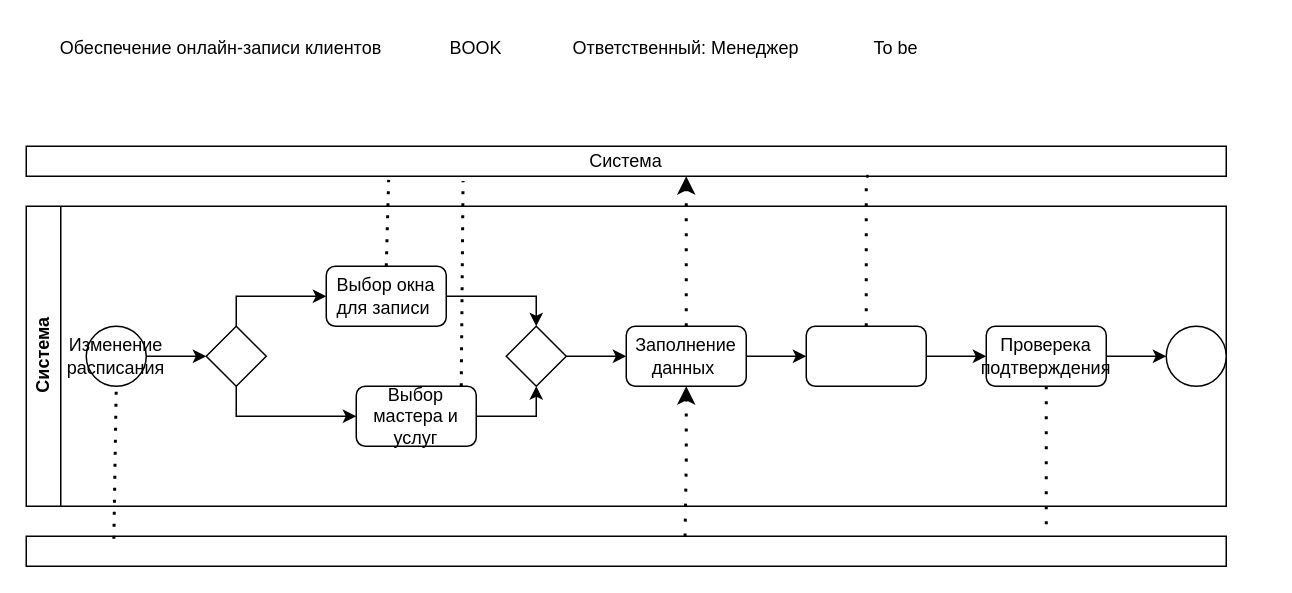
Image size: 1292x593. Some labels were removed from this diagram. Each missing label, with the box of its shape:
Клиент: (25, 535, 1226, 566)
Подтверждение записи: (1165, 325, 1226, 386)
Проверка данных: (805, 325, 926, 386)
